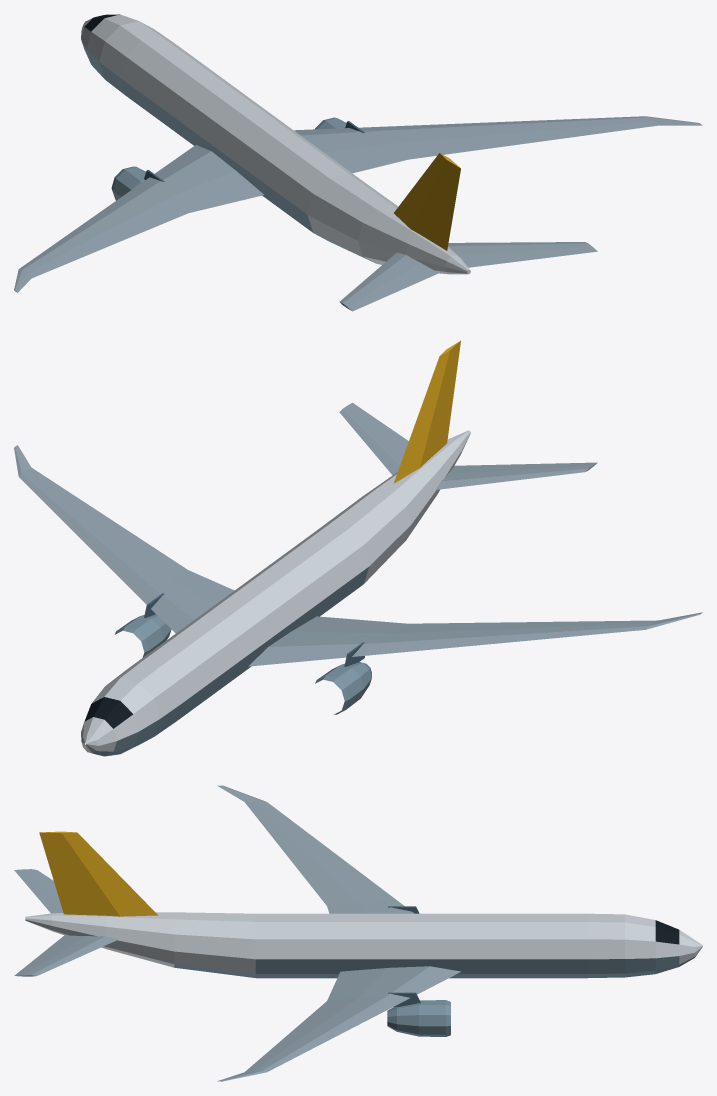
3 views of the same model, one above another, from view 1: azimuth 30°, elevation 25°; view 2: azimuth 150°, elevation 25°; view 3: azimuth 270°, elevation 25° (orthographic). The views are drawn at different scales.
Parts seen in each view (by area): view 1: lod0; view 2: lod0; view 3: lod0.
Boxes of the visible parts, box(x1,y1,x2,y2) form: lod0: box(14, 14, 702, 311); lod0: box(14, 340, 702, 756); lod0: box(14, 785, 702, 1081).
Size of what is drawn, in the model's own units: 1.01 by 0.2547 by 1.
